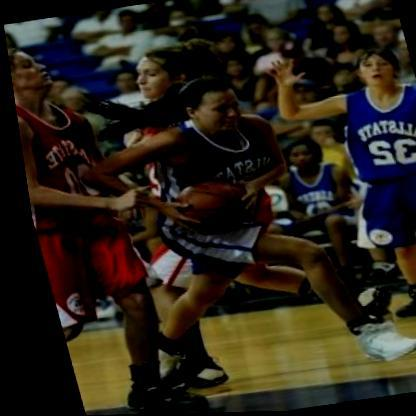basketball: (157, 169, 255, 244)
